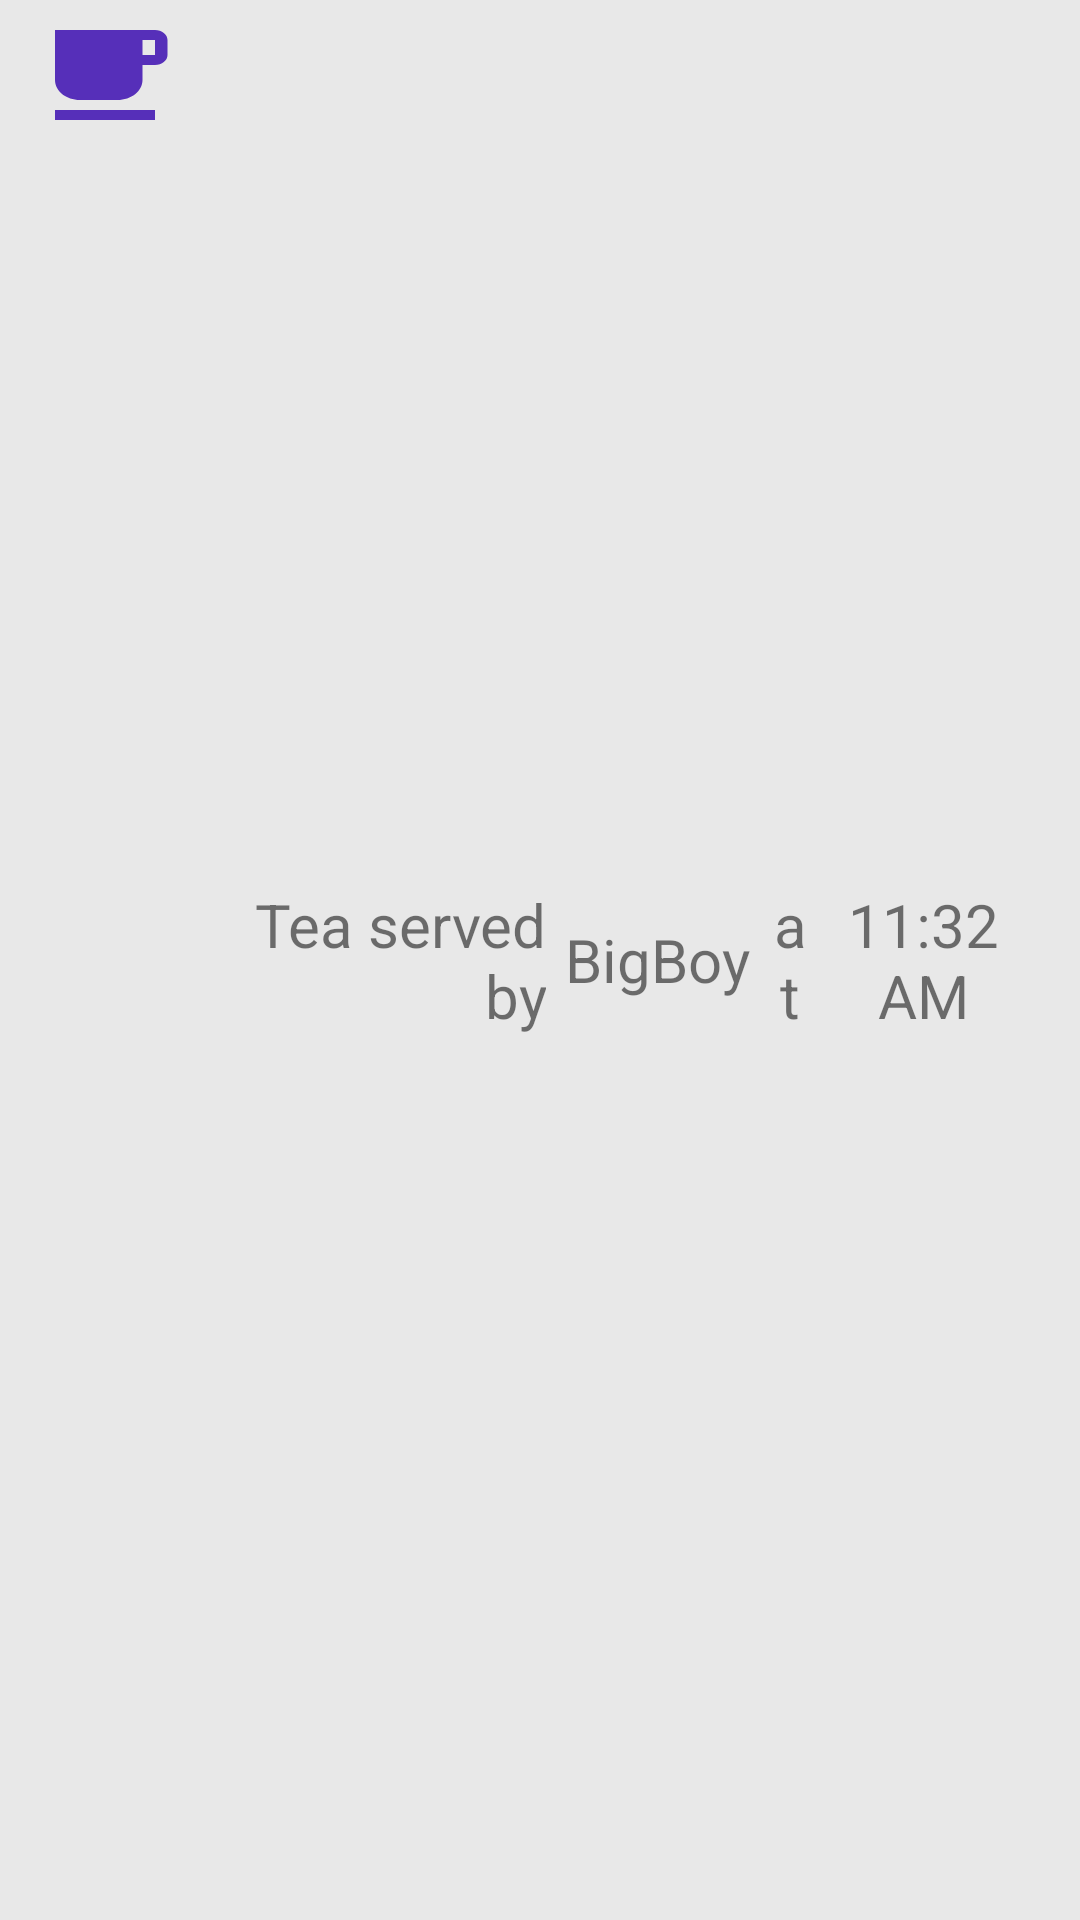

Named icons in this screenshot (1080w x 1920h) and their bounding boxes, (x1, y1, x2, y2):
serve tea: (55, 30, 168, 120)
